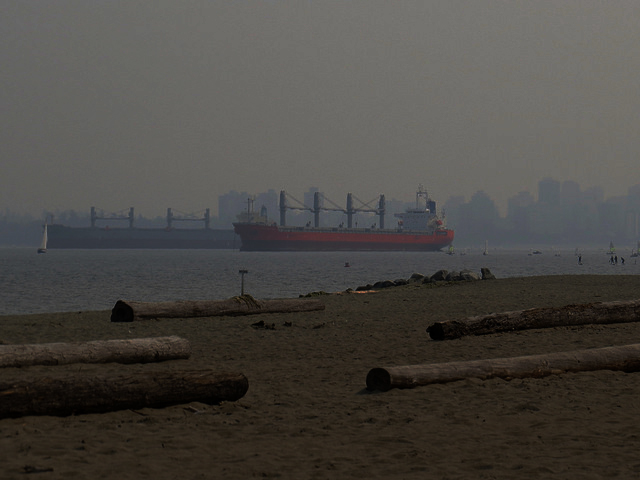bulk carrier: (236, 189, 457, 254), (45, 202, 263, 252)
